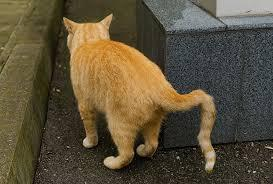fracture: (174, 83, 247, 175)
